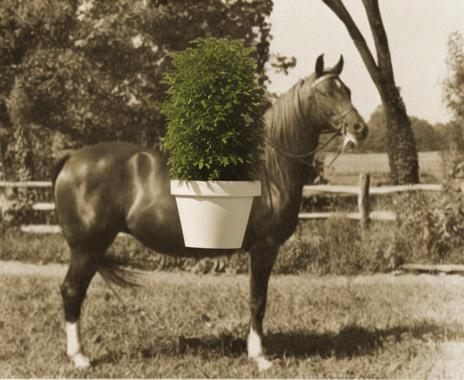horse: (51, 54, 369, 371)
pottedplant: (161, 11, 264, 250)
